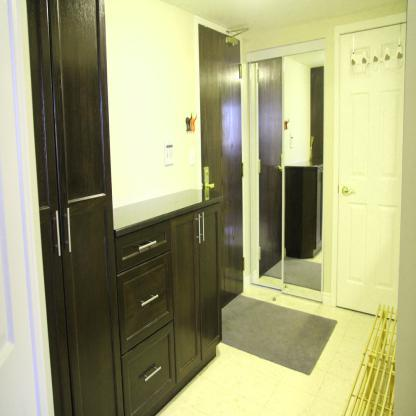door: (336, 31, 403, 316), (196, 20, 247, 302), (257, 58, 284, 277)
hinged: (258, 244, 262, 262), (258, 158, 262, 173), (242, 160, 245, 180), (257, 67, 260, 85), (240, 64, 243, 78), (243, 256, 245, 271)
lever: (343, 188, 356, 198), (207, 181, 216, 191), (274, 163, 284, 171)
